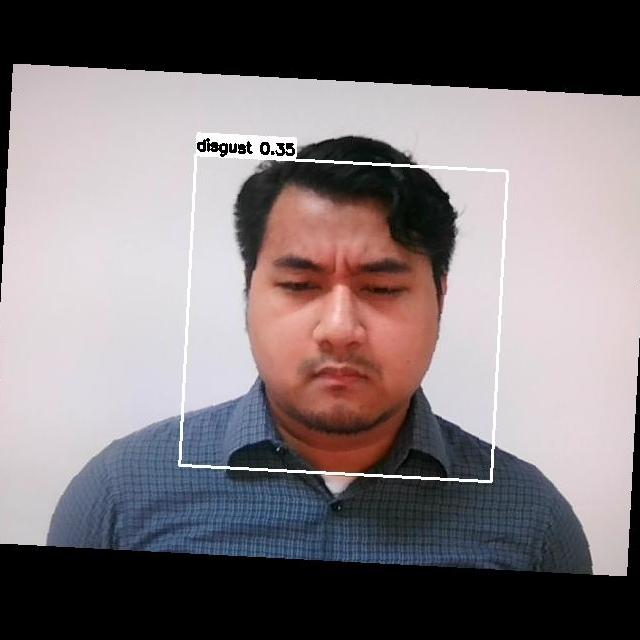Angry: (256, 237, 430, 403)
